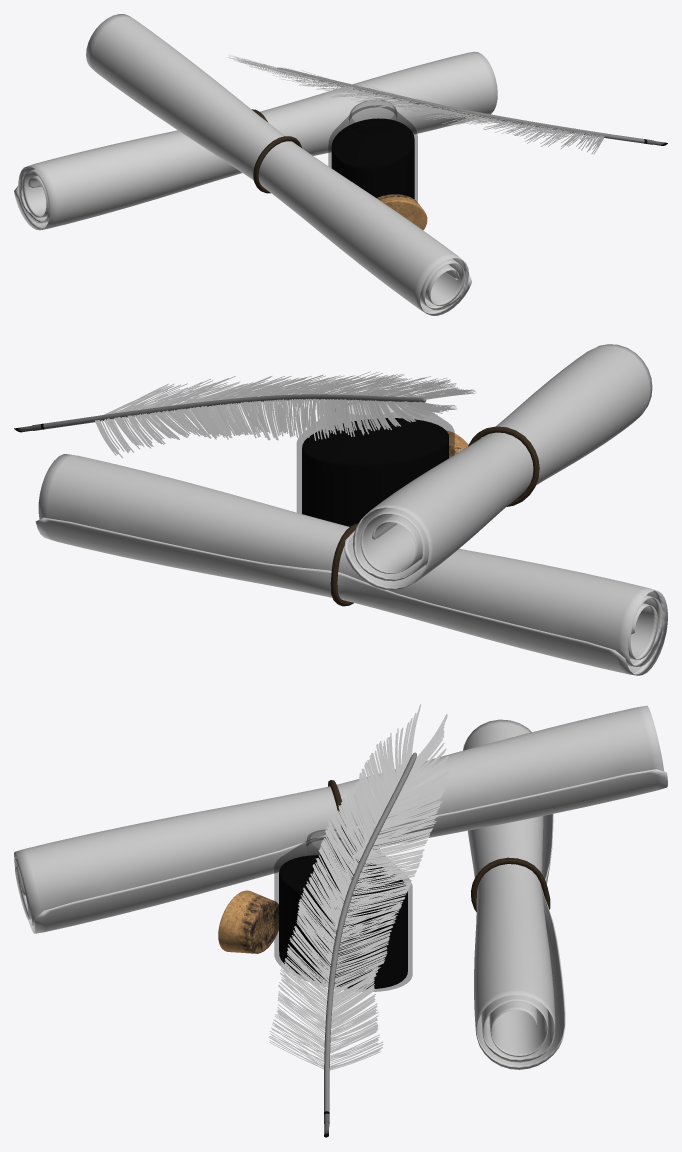
3 views of the same model, one above another, from view 1: azimuth 30°, elevation 25°; view 2: azimuth 150°, elevation 25°; view 3: azimuth 270°, elevation 25° (orthographic). The views are drawn at different scales.
Visible parts, largest first — view 1: OBJ_Scroll (×2), OBJ_Frasco, OBJ_Tinta, OBJ_Pena_Cerdas, polySurface1, OBJ_Rolha, OBJ_Leather_Band; view 2: OBJ_Scroll (×2), OBJ_Pena_Cerdas, OBJ_Frasco, OBJ_Tinta, polySurface1, OBJ_Leather_Band (×2); view 3: OBJ_Scroll (×2), OBJ_Pena_Cerdas, OBJ_Tinta, OBJ_Frasco, OBJ_Rolha, polySurface1, OBJ_Leather_Band.
Part boxes in pixels (bbox=[...]): OBJ_Scroll (×2): bbox=[14, 14, 497, 315]; OBJ_Frasco: bbox=[328, 100, 417, 201]; OBJ_Tinta: bbox=[331, 118, 414, 199]; OBJ_Pena_Cerdas: bbox=[228, 54, 604, 154]; polySurface1: bbox=[277, 67, 667, 145]; OBJ_Rolha: bbox=[376, 194, 427, 230]; OBJ_Leather_Band: bbox=[253, 136, 301, 193]; OBJ_Scroll (×2): bbox=[35, 344, 667, 675]; OBJ_Pena_Cerdas: bbox=[95, 371, 475, 458]; OBJ_Frasco: bbox=[297, 394, 454, 526]; OBJ_Tinta: bbox=[302, 418, 448, 526]; polySurface1: bbox=[14, 394, 426, 432]; OBJ_Leather_Band (×2): bbox=[330, 426, 539, 606]; OBJ_Scroll (×2): bbox=[14, 705, 667, 1069]; OBJ_Pena_Cerdas: bbox=[269, 704, 449, 1070]; OBJ_Tinta: bbox=[279, 855, 407, 989]; OBJ_Frasco: bbox=[274, 829, 412, 991]; OBJ_Rolha: bbox=[218, 890, 278, 953]; polySurface1: bbox=[324, 752, 416, 1137]; OBJ_Leather_Band: bbox=[471, 857, 550, 911].
Size of the model in its own units: 0.0391 by 0.0104 by 0.0315.
